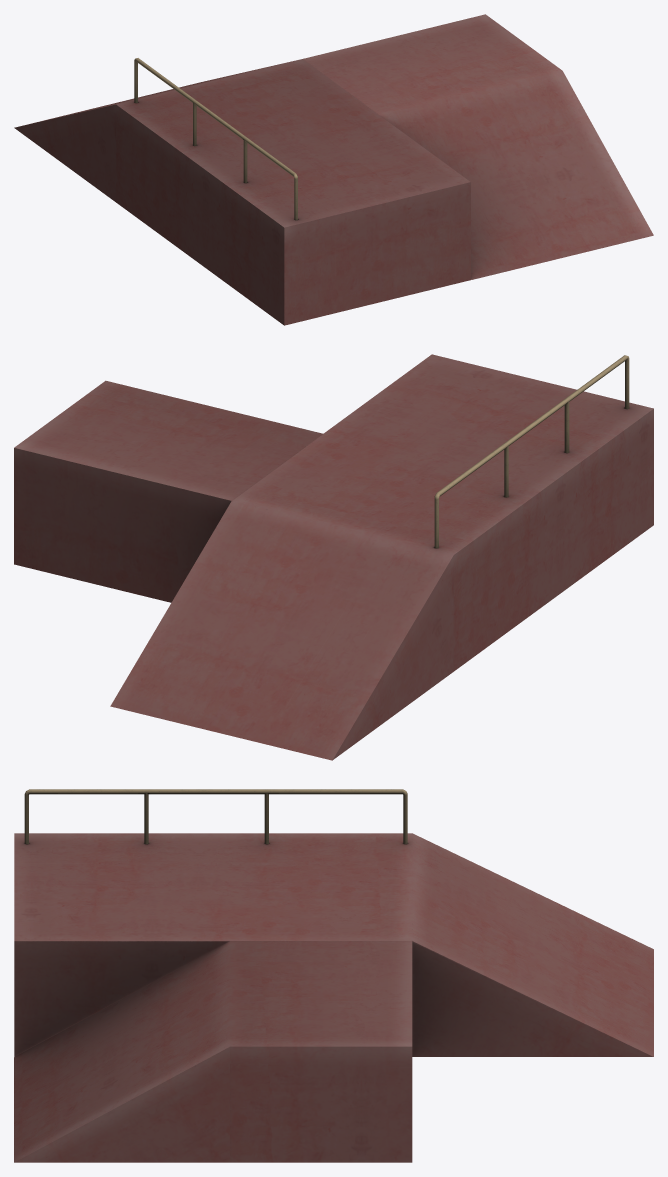
Rendered from Ramp07.fbx.
3 views of the same model, one above another, from view 1: azimuth 30°, elevation 25°; view 2: azimuth 150°, elevation 25°; view 3: azimuth 270°, elevation 25° (orthographic). The views are drawn at different scales.
Parts seen in each view (by area): view 1: Ramp_07; view 2: Ramp_07; view 3: Ramp_07.
Part boxes in pixels (x1=…): Ramp_07: x1=14, y1=14, x2=653, y2=325; Ramp_07: x1=14, y1=354, x2=653, y2=760; Ramp_07: x1=14, y1=789, x2=653, y2=1162.
Bounding box in the file's own units: 3.94 × 1.46 × 5.
